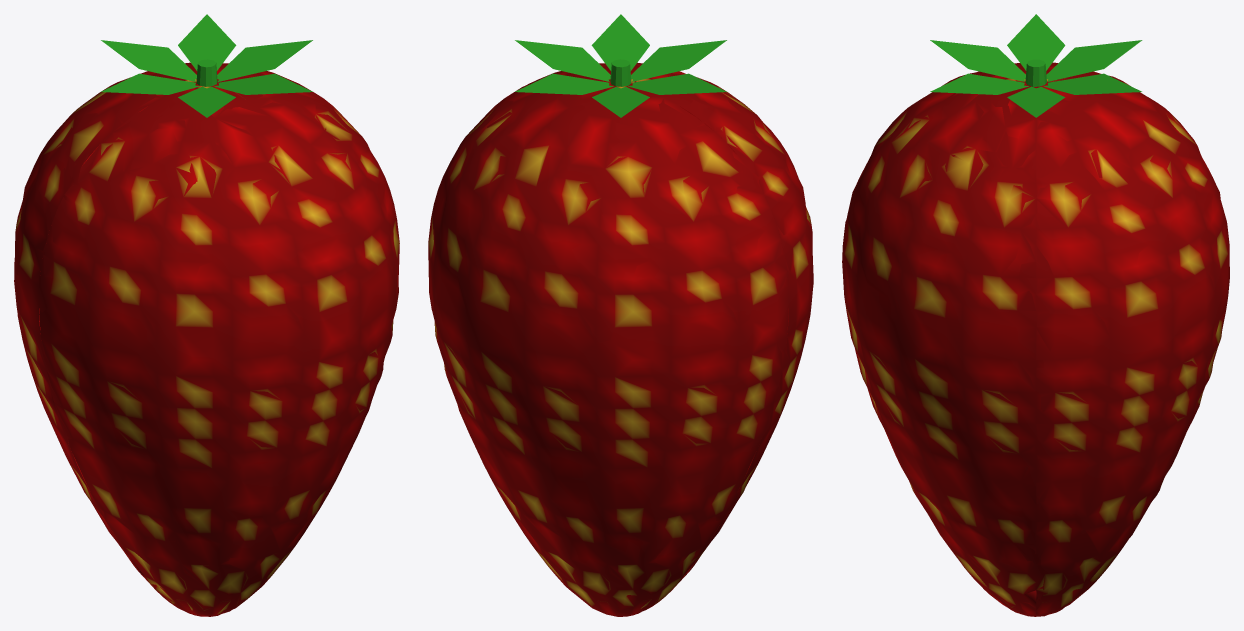
The model's file is fraise.glb.
3 renders of one model, left to right at view 1: azimuth 30°, elevation 25°; view 2: azimuth 150°, elevation 25°; view 3: azimuth 270°, elevation 25°, orthographic.
Parts seen in each view (by area): view 1: entier_peau, moitie_B_peau, entier_extra0, moitie_A_peau; view 2: entier_peau, moitie_A_peau, entier_extra0, moitie_B_peau; view 3: entier_peau, moitie_A_peau, moitie_B_peau, entier_extra0.
Part boxes in pixels (x1,y1,x2,y2): entier_peau: [14, 62, 399, 616]; moitie_B_peau: [39, 77, 399, 616]; entier_extra0: [101, 14, 312, 117]; moitie_A_peau: [14, 63, 310, 573]; entier_peau: [428, 63, 813, 616]; moitie_A_peau: [428, 76, 786, 616]; entier_extra0: [515, 14, 726, 117]; moitie_B_peau: [517, 62, 813, 573]; entier_peau: [845, 62, 1229, 616]; moitie_A_peau: [1036, 63, 1229, 616]; moitie_B_peau: [842, 63, 1036, 616]; entier_extra0: [930, 14, 1142, 117].
Bounding box in the file's own units: 1.33 × 2.07 × 1.32.
